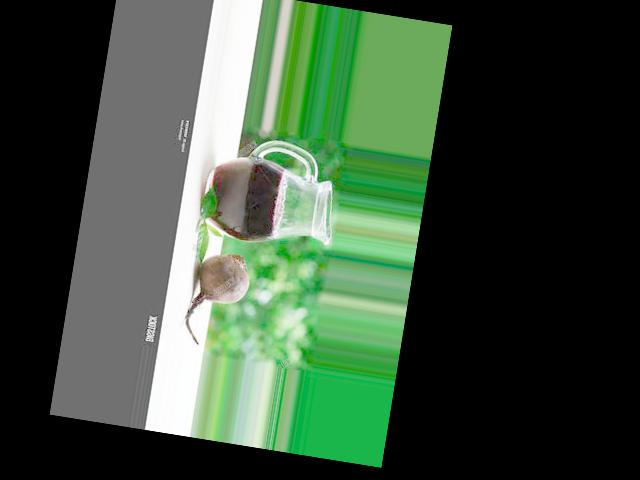beet: (180, 248, 252, 350)
